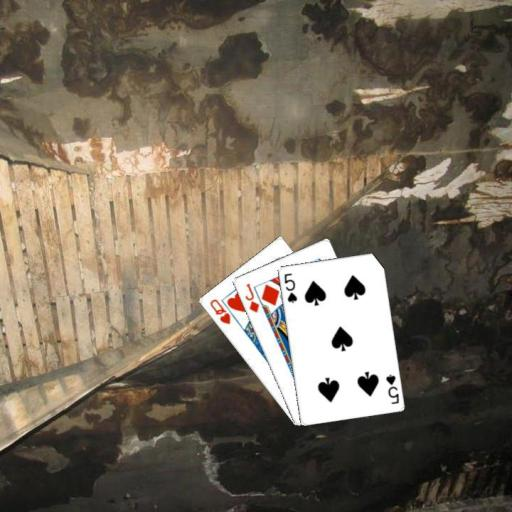5S: (383, 371, 401, 406), (281, 270, 298, 305)
JD: (242, 280, 260, 314)
QH: (206, 296, 232, 326)
